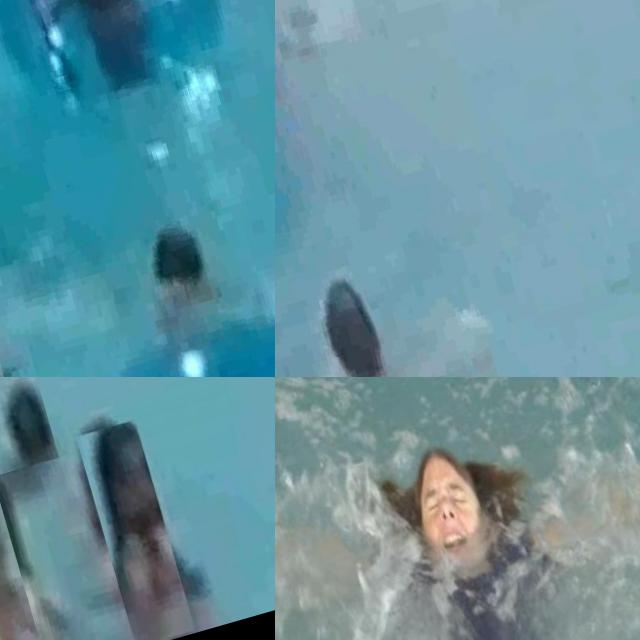drowning: (275, 377, 640, 640), (22, 167, 266, 368), (275, 0, 422, 103), (0, 377, 60, 475)
swimming: (275, 215, 517, 377), (76, 419, 196, 640), (0, 462, 51, 640)
